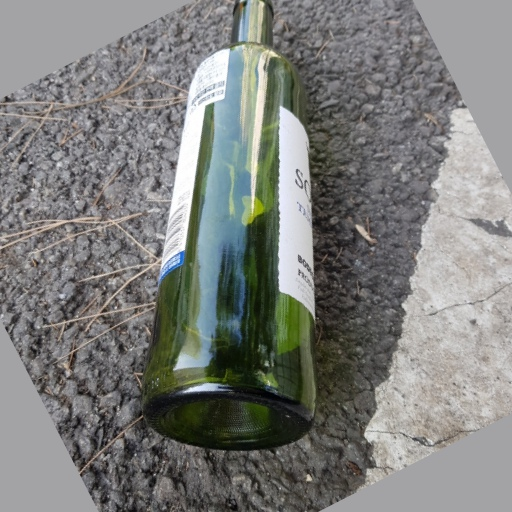Glass_2: (140, 6, 318, 451)
